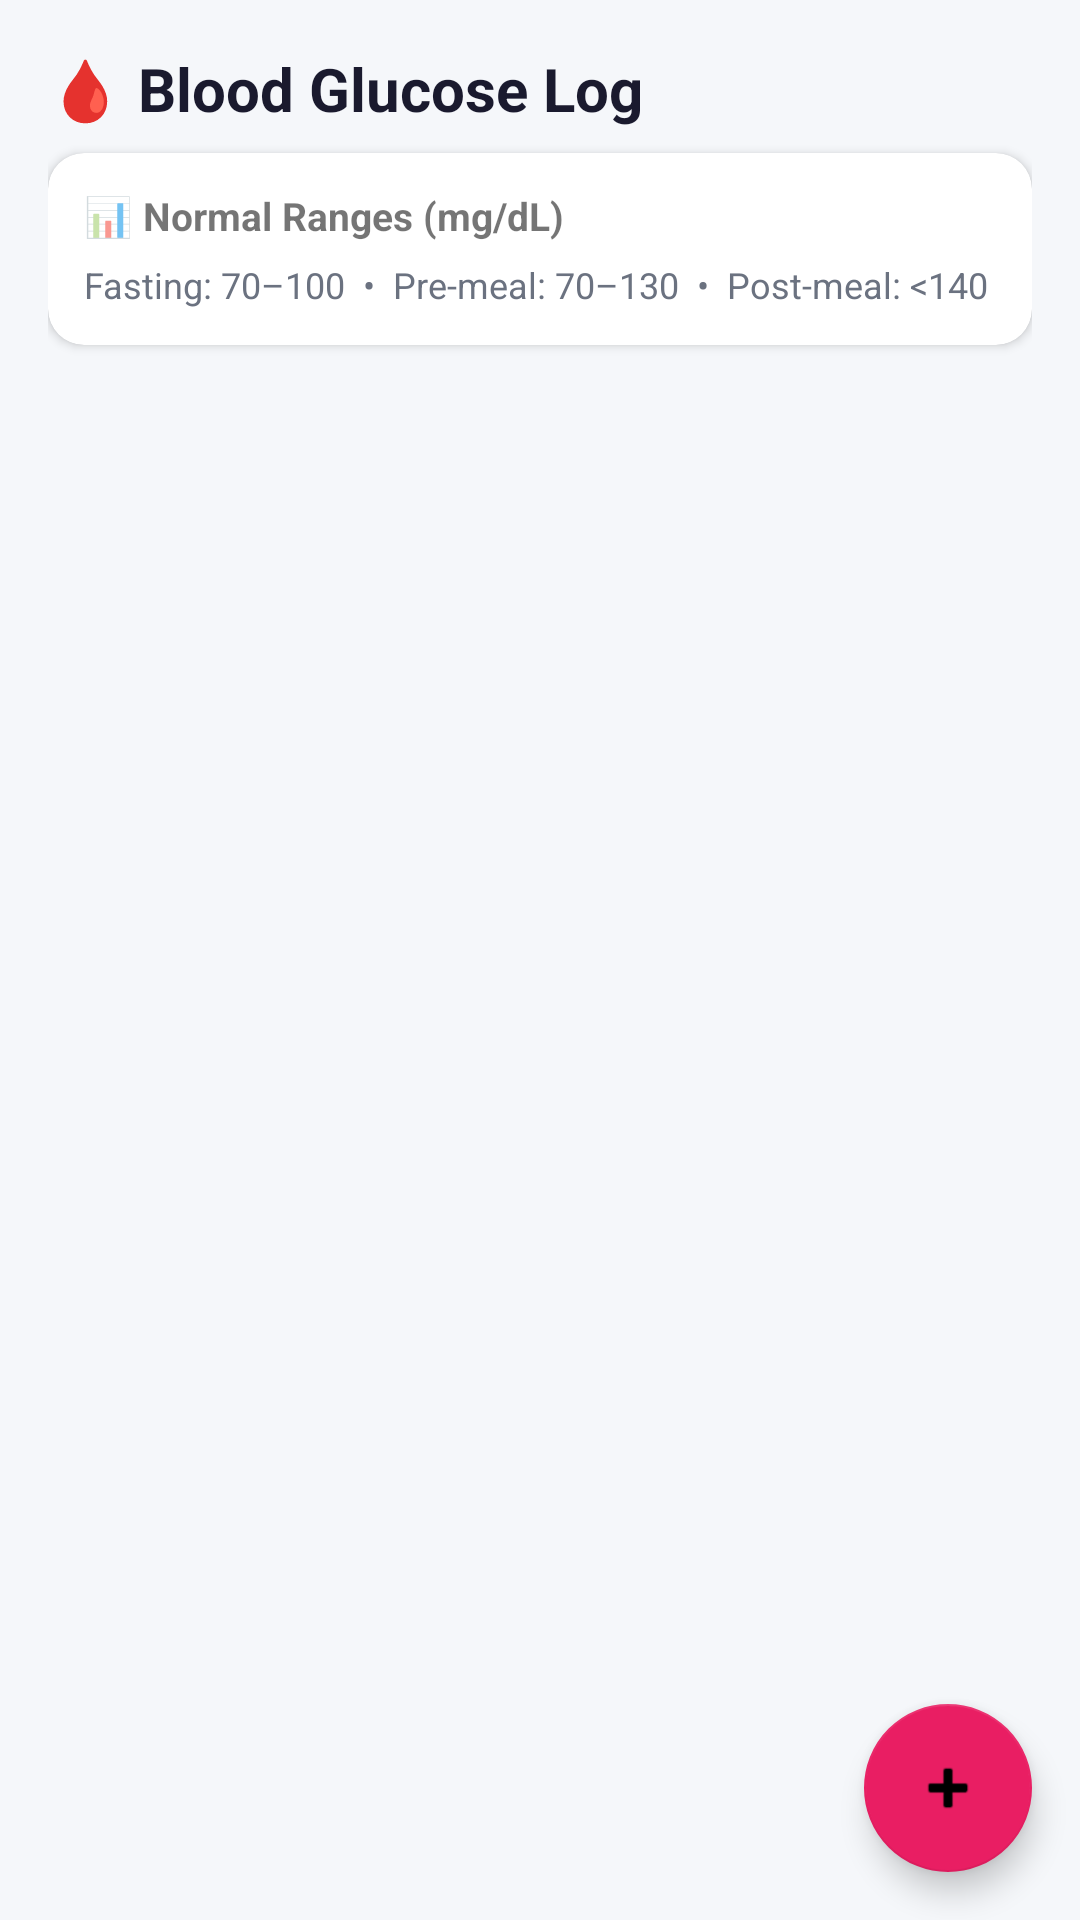

Screen size 1080*1920. Icon name, then its center in pixels as [x,y]:
Add glucose reading: [948,1788]
